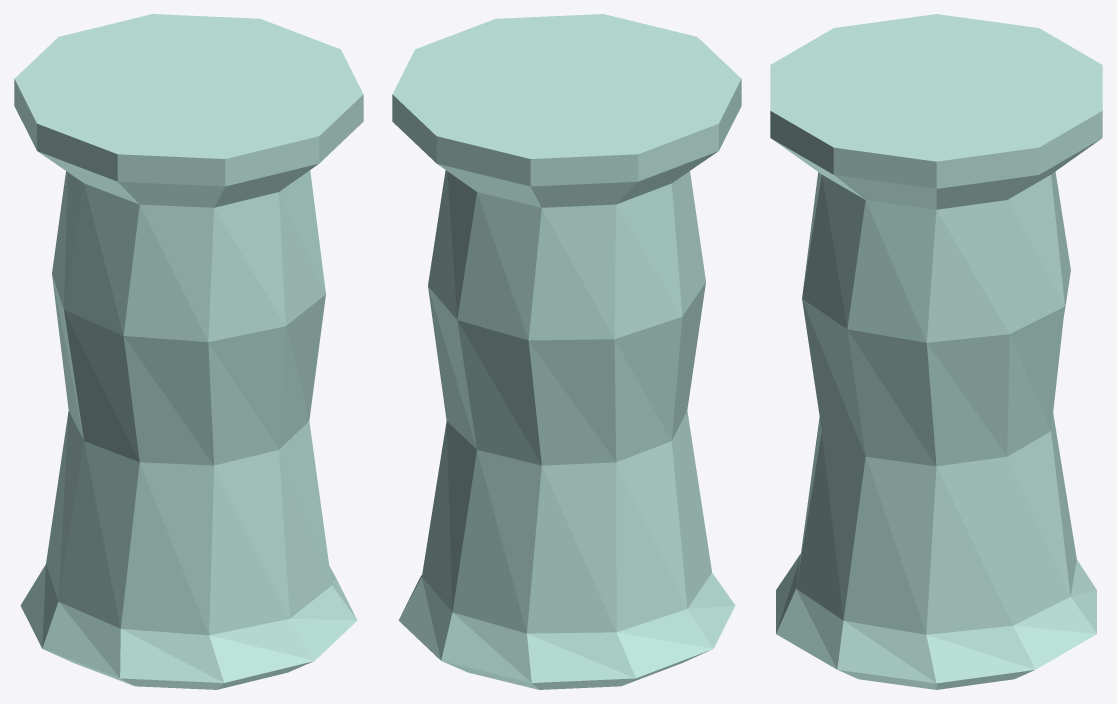
The model's file is mineral-column.obj.
3 renders of one model, left to right at view 1: azimuth 30°, elevation 25°; view 2: azimuth 150°, elevation 25°; view 3: azimuth 270°, elevation 25°, orthographic.
Bounding box in the file's own units: 0.58 × 1 × 0.5516.
